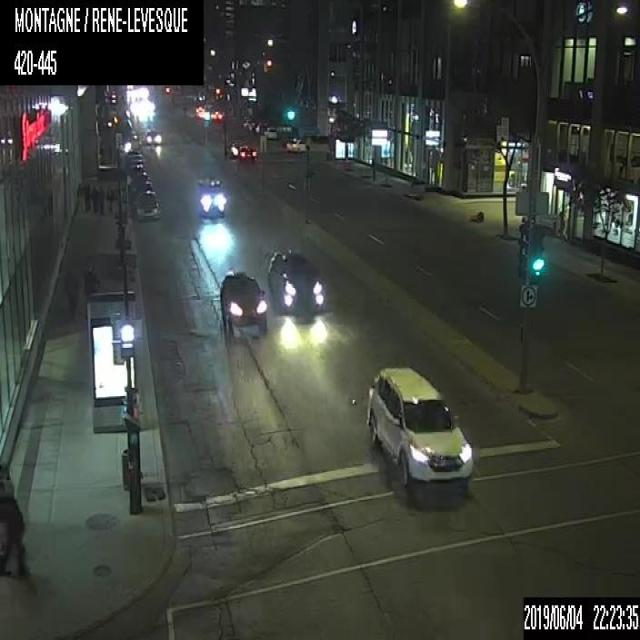pedestrian: (0, 464, 29, 575), (83, 263, 101, 318), (64, 268, 77, 320), (90, 182, 99, 212), (82, 182, 90, 214)
vehicle: (364, 364, 472, 489), (266, 248, 326, 316), (218, 271, 268, 337), (195, 179, 227, 217), (132, 190, 160, 220), (238, 143, 255, 161), (144, 128, 161, 144), (286, 136, 304, 151), (209, 108, 224, 123), (254, 121, 268, 135), (264, 126, 276, 139)
